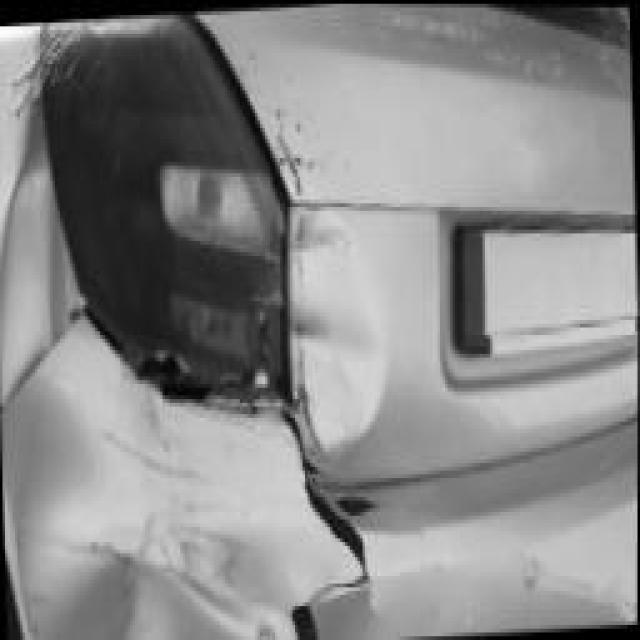Bumper: (1, 312, 466, 640)
Light: (42, 11, 296, 395)
